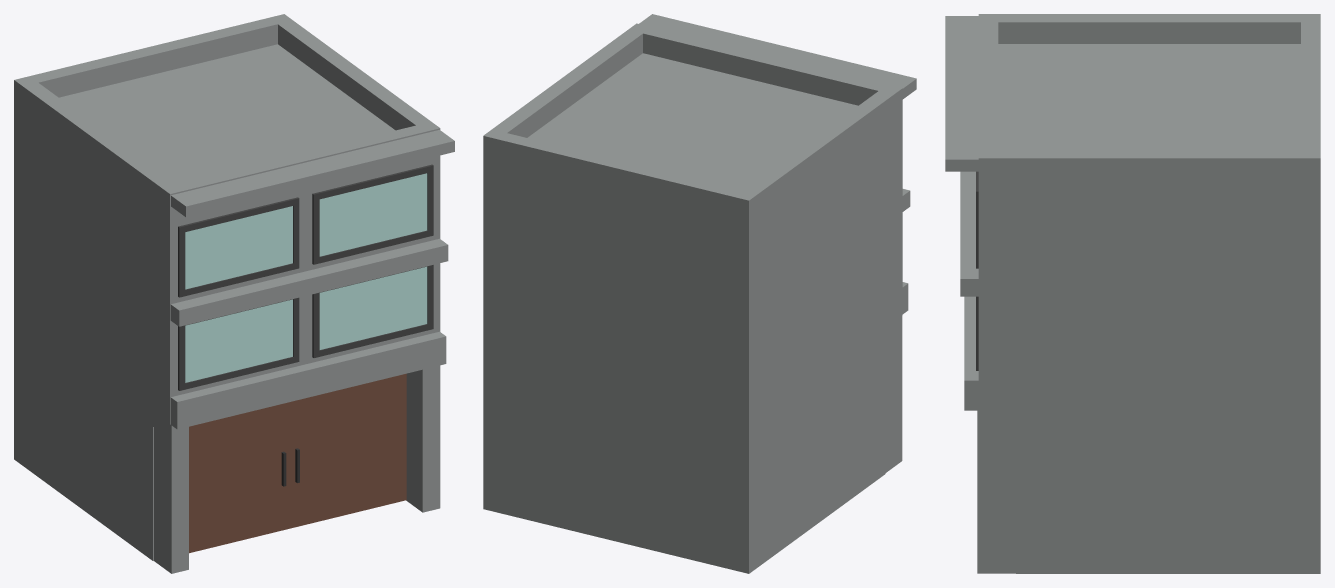
Rendered from BangunanGenericVar4.fbx.
3 renders of one model, left to right at view 1: azimuth 30°, elevation 25°; view 2: azimuth 150°, elevation 25°; view 3: azimuth 270°, elevation 25°, orthographic. The views are drawn at different scales.
Parts seen in each view (by area): view 1: Bangunan_Var4_rev; view 2: Bangunan_Var4_rev; view 3: Bangunan_Var4_rev.
Boxes of the visible parts, <box> form: Bangunan_Var4_rev: <box>14,14,454,573</box>; Bangunan_Var4_rev: <box>483,14,916,573</box>; Bangunan_Var4_rev: <box>945,14,1320,573</box>.
Bounding box in the file's own units: 299 × 401 × 328.
1 material, 1 textured.
